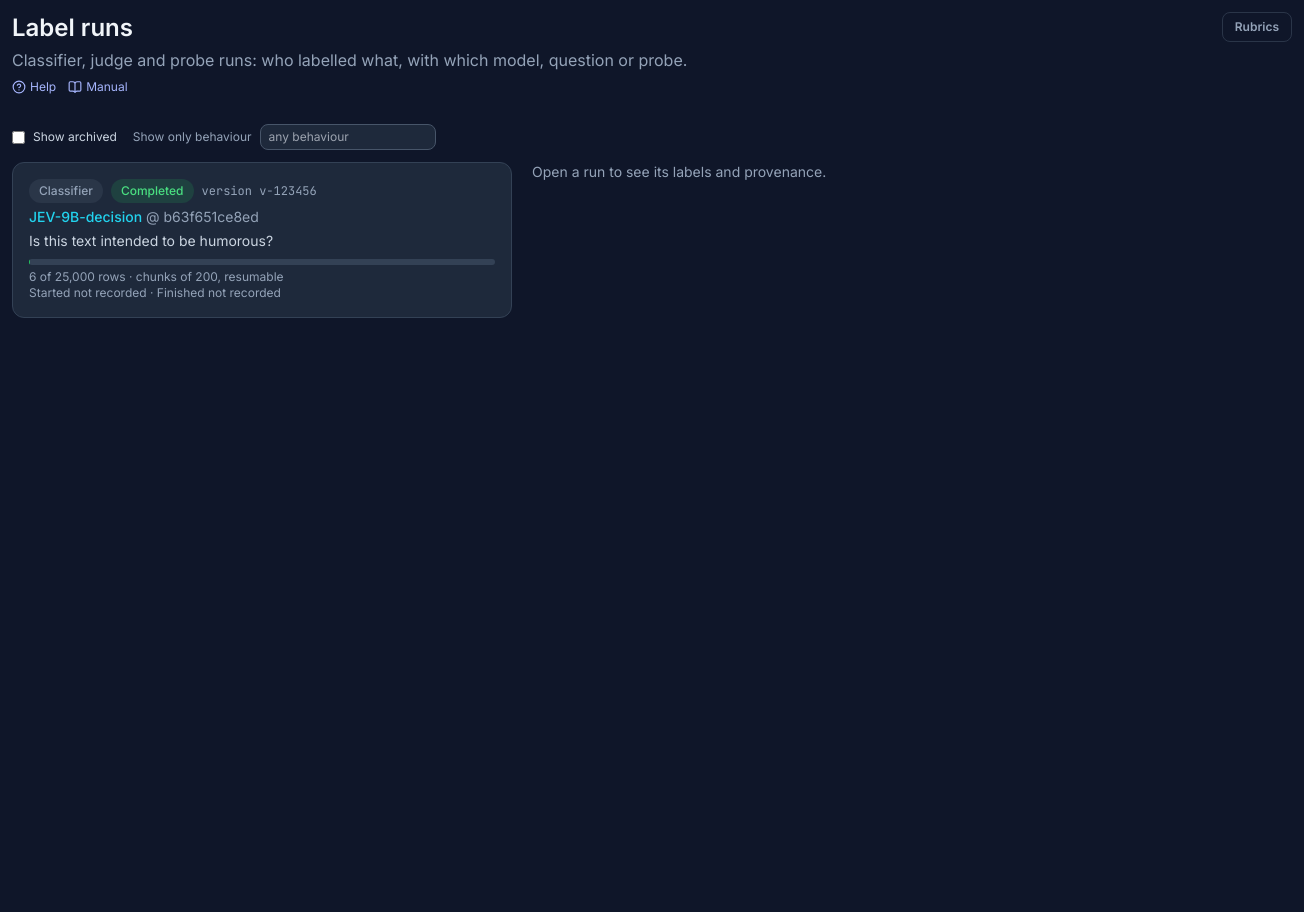
it: Label runs screen › archives a finished run from its detail and reloads the list
Click the button with test id "label-run-card".
click(262, 240)  # box 12,162 -> 512,318
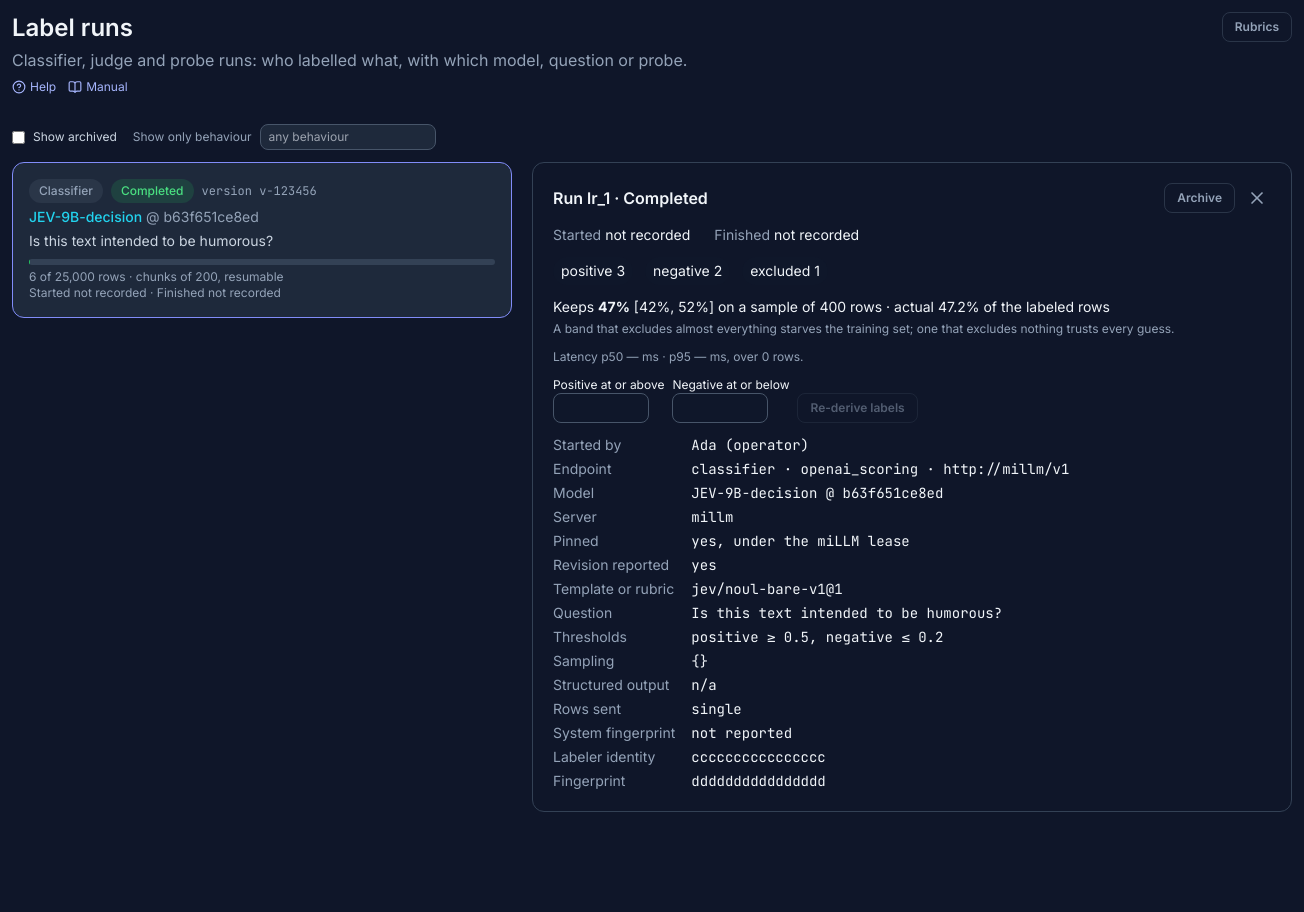
Click the button with aria-label "Archive label run".
click(1200, 198)  # box 1164,183 -> 1235,213
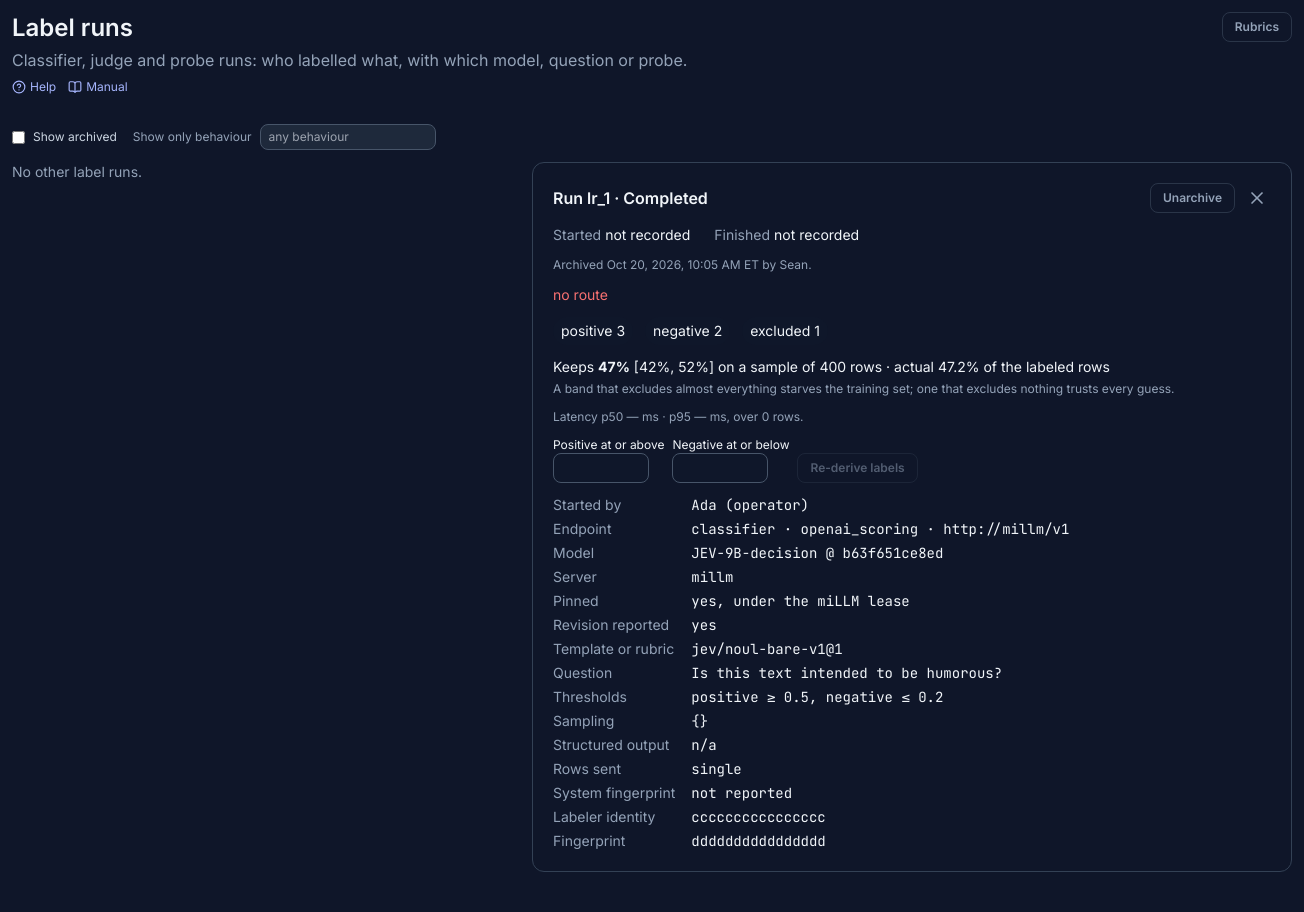
Expected: the button with aria-label "Unarchive label run" is shown, 1150,183 -> 1235,213
